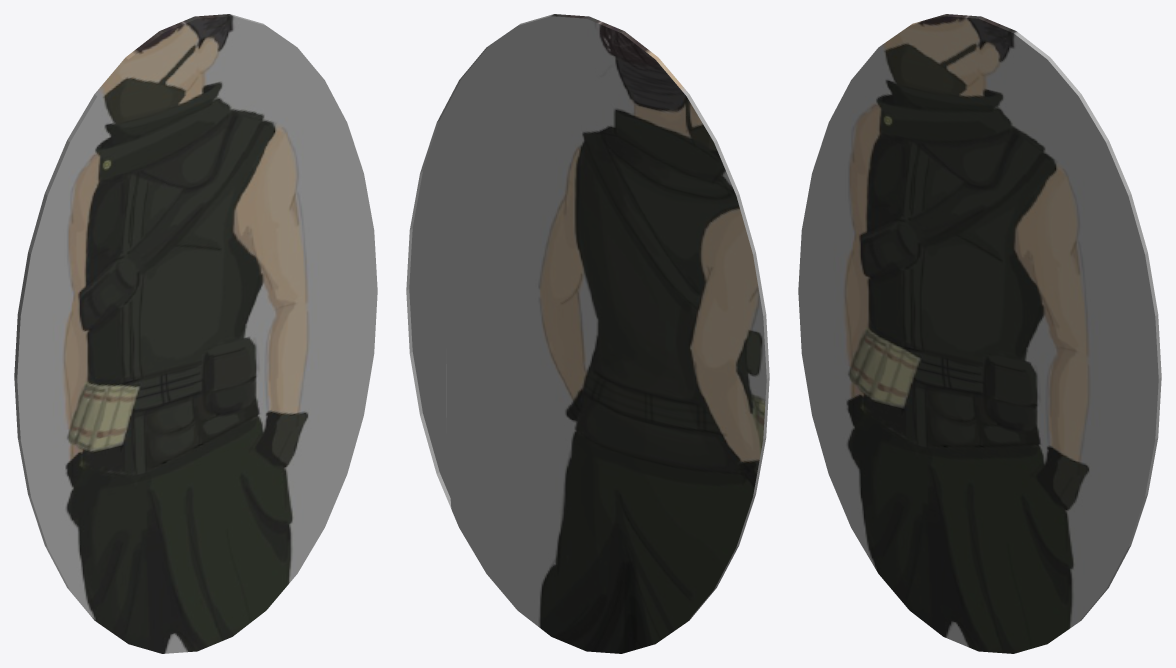
The model's file is LittleMan (1).fbx.
3 renders of one model, left to right at view 1: azimuth 30°, elevation 25°; view 2: azimuth 150°, elevation 25°; view 3: azimuth 330°, elevation 25°, orthographic.
Parts seen in each view (by area): view 1: Man; view 2: Man; view 3: Man.
Boxes of the visible parts, x1=… form: Man: x1=14, y1=14, x2=377, y2=653; Man: x1=406, y1=14, x2=769, y2=653; Man: x1=798, y1=14, x2=1161, y2=653.
Bounding box in the file's own units: 119 × 199 × 1.69.
